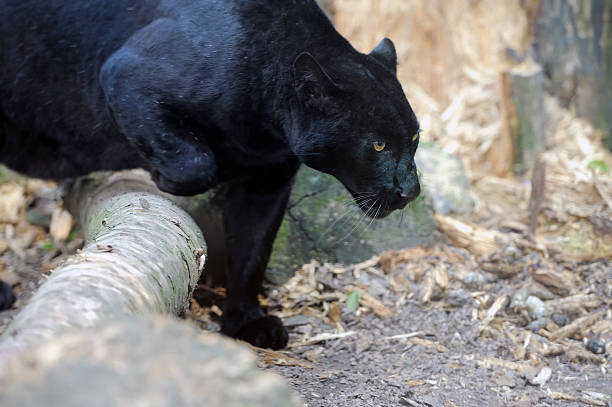panther: (268, 27, 448, 238)
